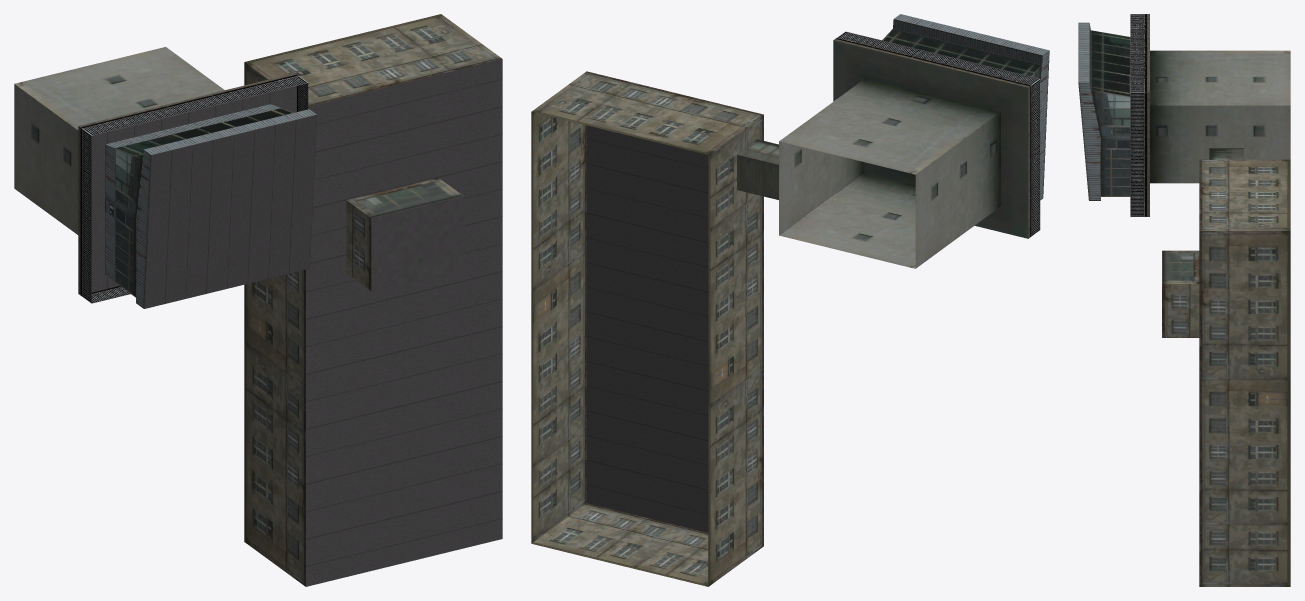
The model's file is DEMO_OldTower.OBJ.
3 renders of one model, left to right at view 1: azimuth 30°, elevation 25°; view 2: azimuth 150°, elevation 25°; view 3: azimuth 270°, elevation 25°, orthographic. The views are drawn at different scales.
Parts seen in each view (by area): view 1: part_0_LOD_100, part_1_LOD_100; view 2: part_1_LOD_100, part_0_LOD_100; view 3: part_1_LOD_100.
Boxes of the visible parts, x1=… form: part_0_LOD_100: x1=91, y1=59, x2=502, y2=586; part_1_LOD_100: x1=14, y1=14, x2=501, y2=586; part_1_LOD_100: x1=531, y1=14, x2=1049, y2=586; part_0_LOD_100: x1=586, y1=125, x2=708, y2=532; part_1_LOD_100: x1=1078, y1=14, x2=1290, y2=586.
Size of the model in its own units: 34.86 by 39.98 by 18.88.
2 materials, 2 textured.
